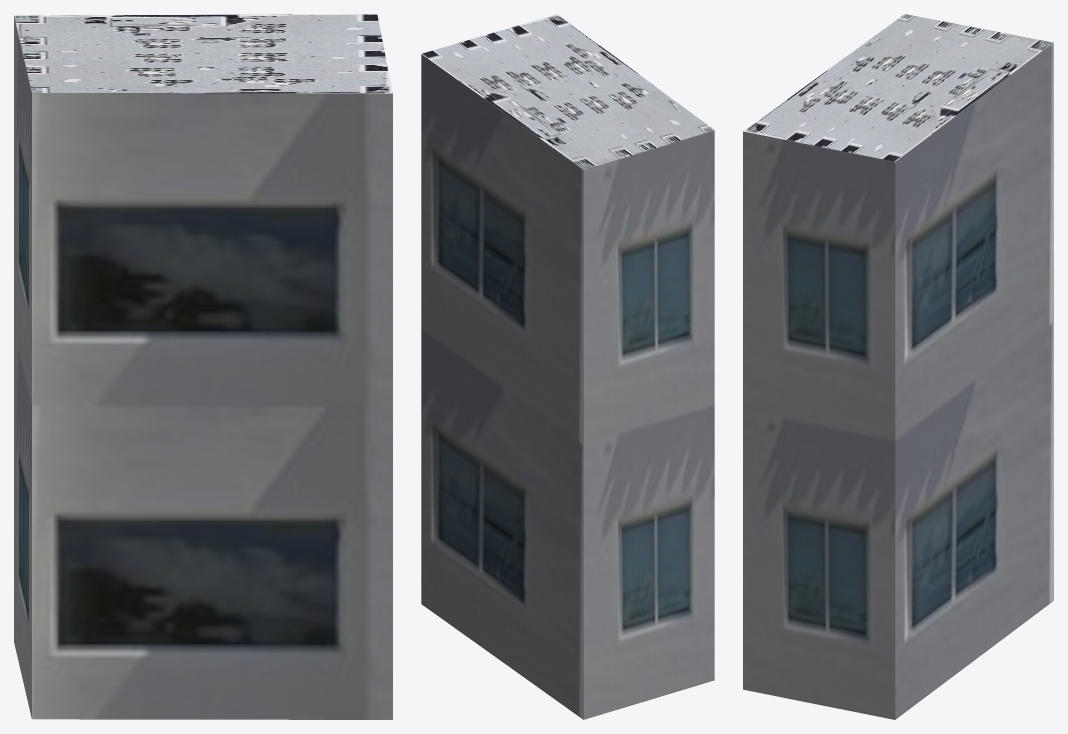
Rendered from ResTex__805.fbx.
The picture shows the model from 3 angles, left to right: view 1: azimuth 30°, elevation 25°; view 2: azimuth 150°, elevation 25°; view 3: azimuth 270°, elevation 25°; orthographic projection. The views are drawn at different scales.
Parts seen in each view (by area): view 1: CityEngineMaterial_10_m, CityEngineMaterial_m; view 2: CityEngineMaterial_10_m, CityEngineMaterial_m; view 3: CityEngineMaterial_10_m, CityEngineMaterial_m.
Boxes of the visible parts, box(x1,y1,x2,y2) form: CityEngineMaterial_10_m: box(14, 16, 392, 719); CityEngineMaterial_m: box(14, 14, 392, 93); CityEngineMaterial_10_m: box(421, 54, 714, 719); CityEngineMaterial_m: box(421, 14, 714, 169); CityEngineMaterial_10_m: box(743, 43, 1053, 719); CityEngineMaterial_m: box(743, 14, 1053, 161).
Bounding box in the file's own units: 3.41 × 6 × 3.03.
Materials: 2 (2 with a texture image).
